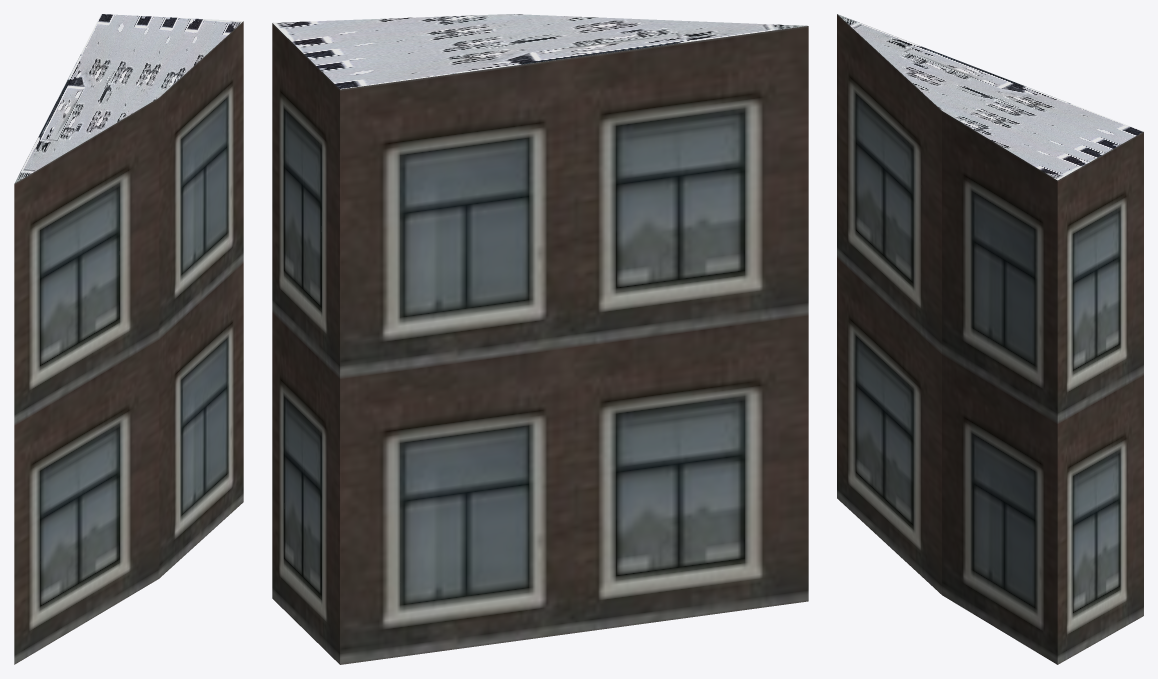
Rendered from ResTex__4093.fbx.
3 renders of one model, left to right at view 1: azimuth 30°, elevation 25°; view 2: azimuth 150°, elevation 25°; view 3: azimuth 270°, elevation 25°, orthographic. The views are drawn at different scales.
Parts seen in each view (by area): view 1: CityEngineMaterial_16_m, CityEngineMaterial_15_m; view 2: CityEngineMaterial_16_m, CityEngineMaterial_15_m; view 3: CityEngineMaterial_16_m, CityEngineMaterial_15_m.
Boxes of the visible parts, box(x1,y1,x2,y2) form: CityEngineMaterial_16_m: box(14, 21, 243, 664); CityEngineMaterial_15_m: box(14, 14, 243, 183); CityEngineMaterial_16_m: box(272, 23, 808, 664); CityEngineMaterial_15_m: box(273, 14, 807, 89); CityEngineMaterial_16_m: box(837, 14, 1143, 664); CityEngineMaterial_15_m: box(837, 14, 1143, 180).
Bounding box in the file's own units: 4.42 × 6 × 3.44.
2 materials, 2 textured.
